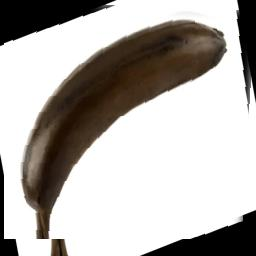Banana Rotten: (5, 0, 256, 239)
